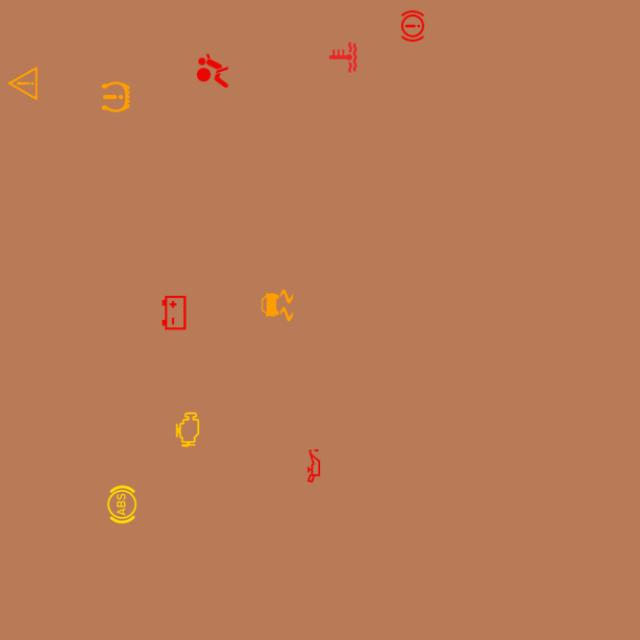Anti Lock Braking System: (101, 484, 143, 525)
Braking System Issue: (392, 5, 434, 47)
Charging System Issue: (153, 292, 195, 333)
Check Engine: (167, 409, 208, 450)
Electronic Stability Problem -ESP-: (257, 285, 298, 326)
Engine Overheating Warning Light: (322, 37, 364, 78)
Low Engine Oil Warning Light: (293, 445, 334, 487)
Low Tire Pressure Warning Light: (95, 76, 136, 118)
Master warning light: (2, 63, 44, 104)
SRS-Airbag: (192, 50, 233, 92)
